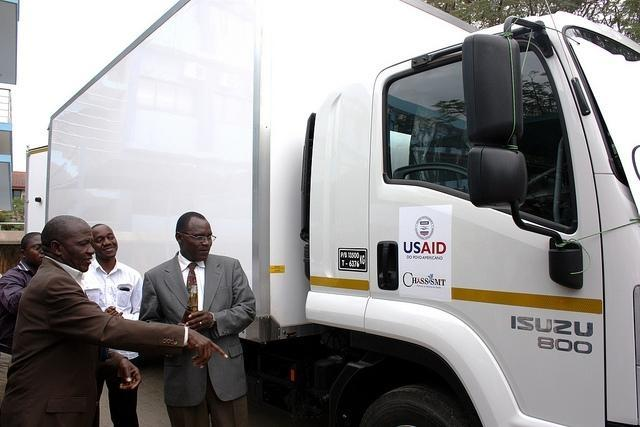truck: (27, 1, 640, 422)
